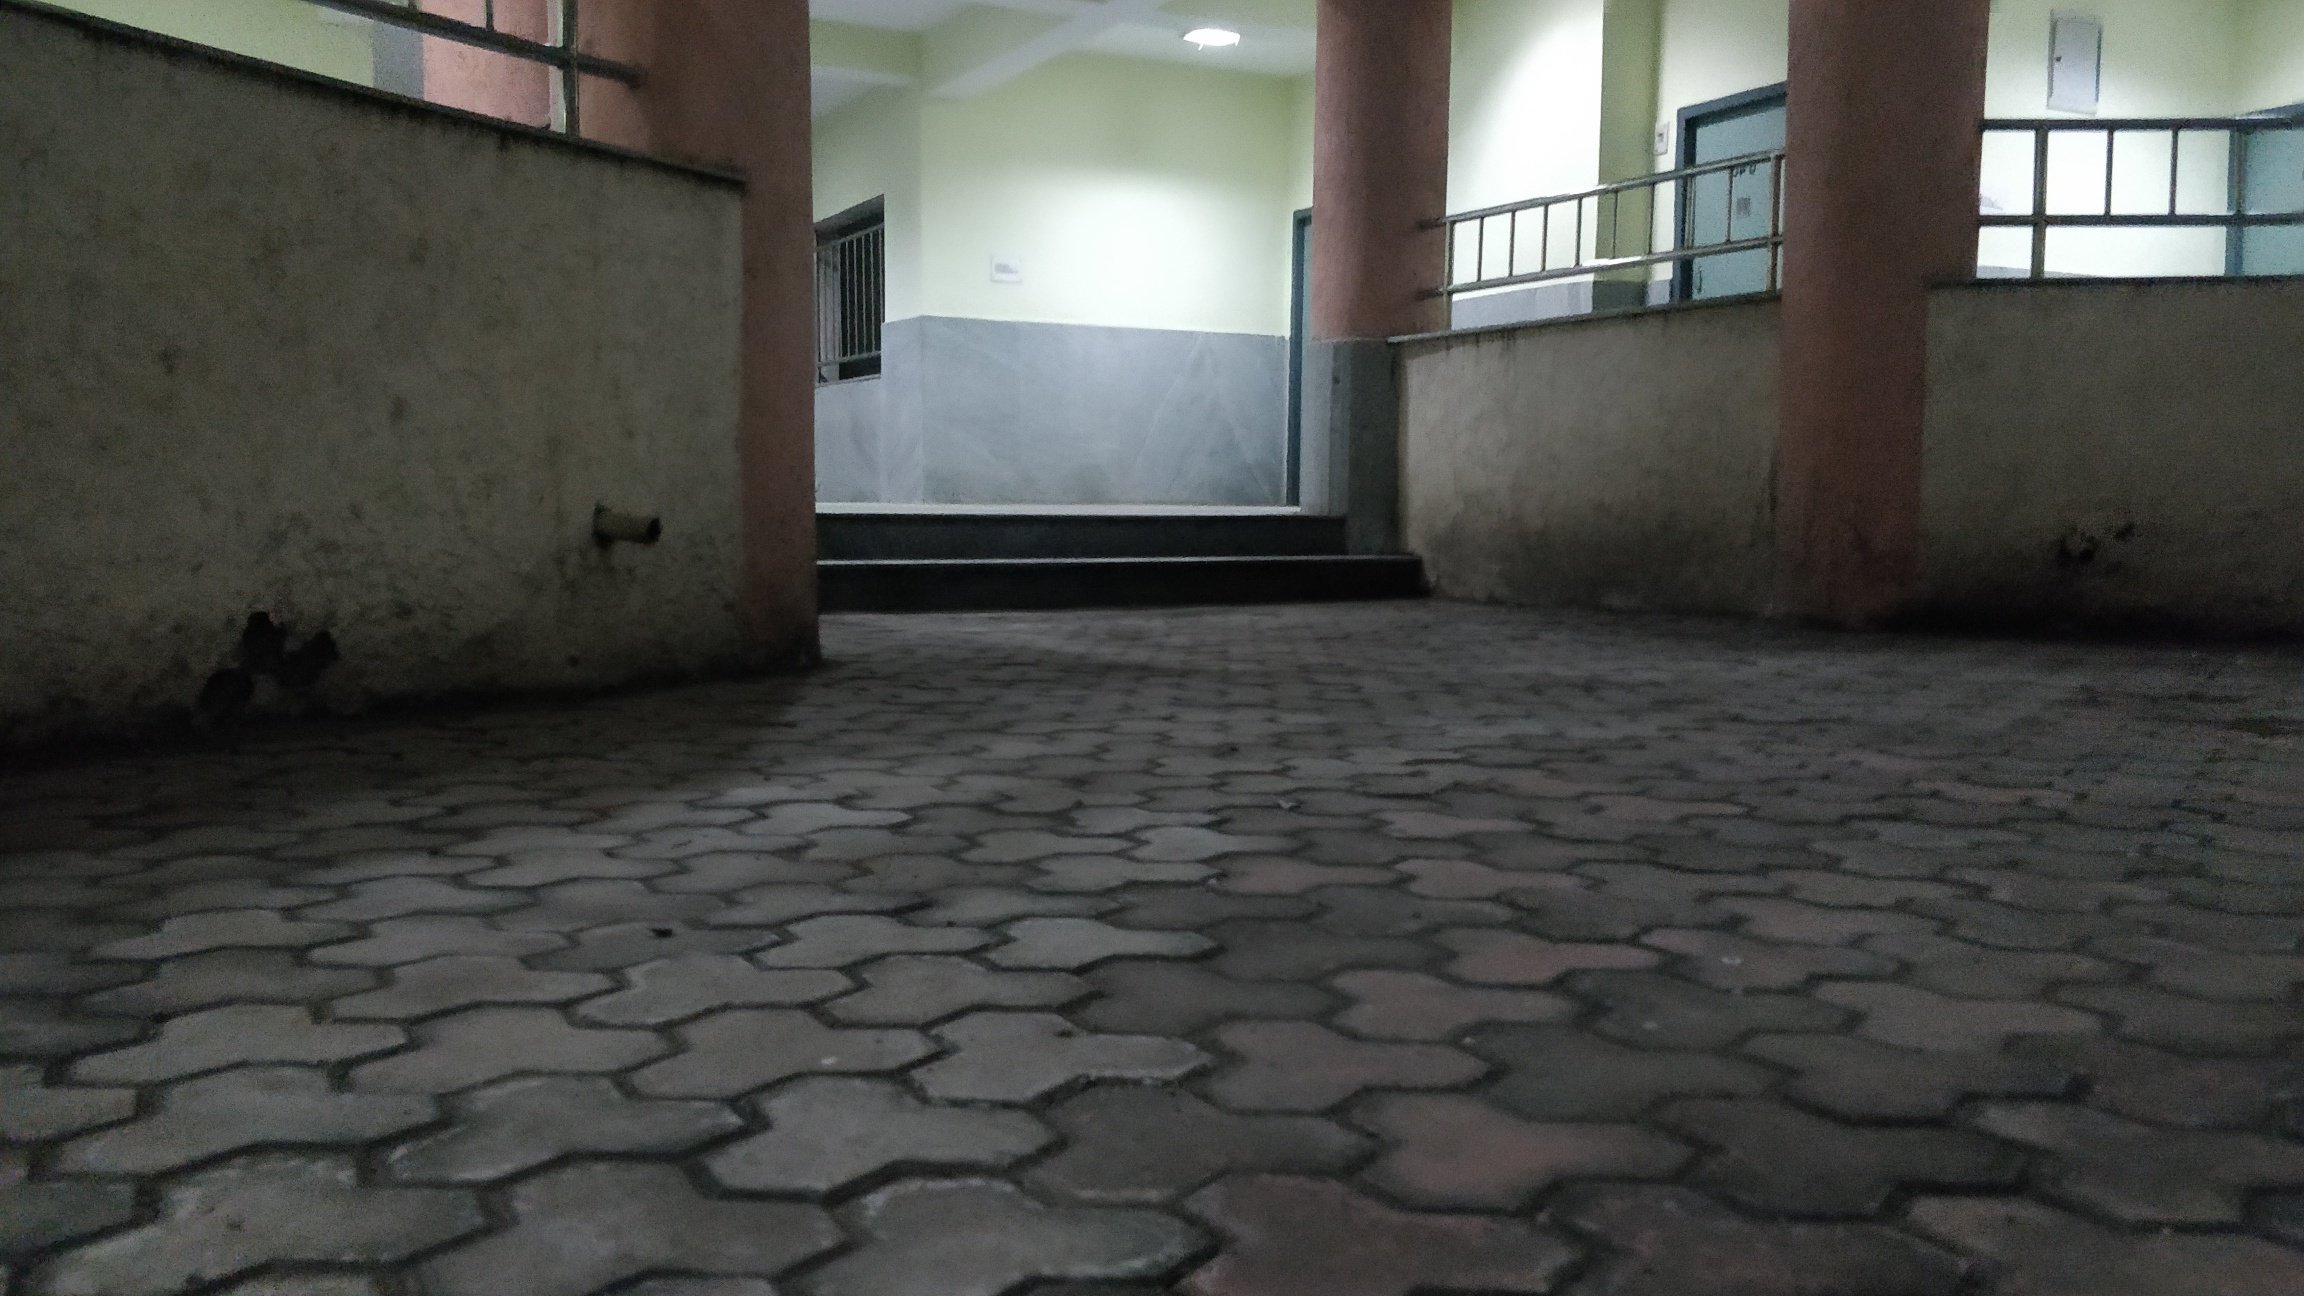stairs_up: (809, 495, 1426, 604)
